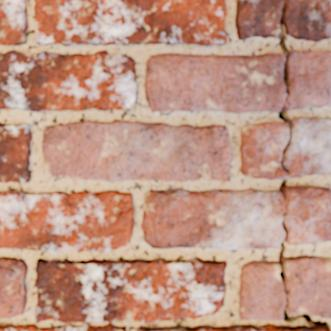brick: (35, 258, 226, 322), (42, 121, 232, 181), (35, 0, 226, 45), (0, 50, 135, 111), (0, 191, 133, 252), (0, 123, 31, 182), (0, 257, 26, 317), (0, 0, 27, 44), (138, 324, 330, 330), (0, 324, 125, 330)
broken_brick: (140, 187, 284, 250), (144, 52, 284, 113), (234, 0, 330, 42), (238, 259, 284, 321), (284, 116, 330, 178), (239, 121, 287, 180), (285, 49, 330, 111), (286, 255, 330, 318), (284, 185, 330, 245)
crack: (277, 2, 330, 328), (0, 265, 22, 296), (109, 206, 132, 217), (167, 242, 174, 248)
